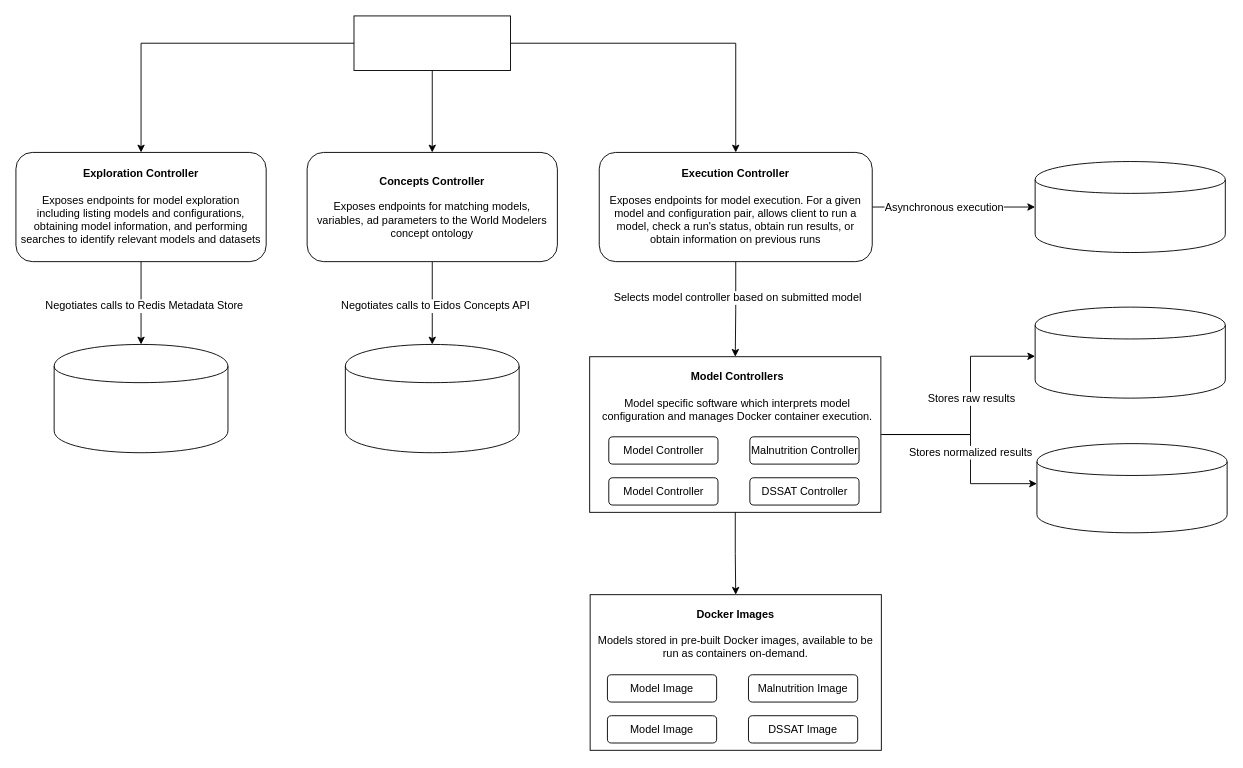
This 1243x768 diagram has some shape labels left out. The shapes that lost their labels are listed below. From the top down, each one's centre as x and y in pixels, then its label:
At (x=432, y=43): "Client Server or end-user interacting with Maas".
At (x=1129, y=207): "Redis Tracks and queues execution runs, and run status".
At (x=1129, y=352): "S3 Storage for raw model run results".
At (x=140, y=398): "Redis Model metadata and configuration information".
At (x=431, y=398): "Eidos Concept mappings generated through machine reading".
At (x=1131, y=488): "PostgreSQL Storage for normalized model output".
